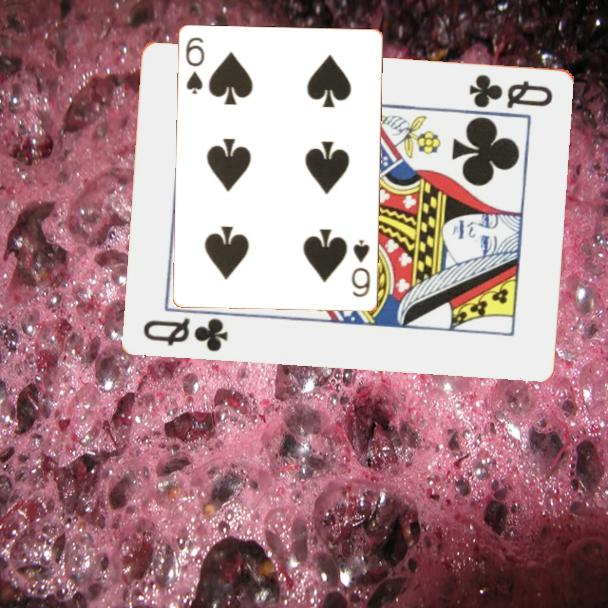c12: (466, 70, 556, 111), (140, 314, 231, 354)
s06: (348, 236, 373, 300), (183, 34, 208, 97)
